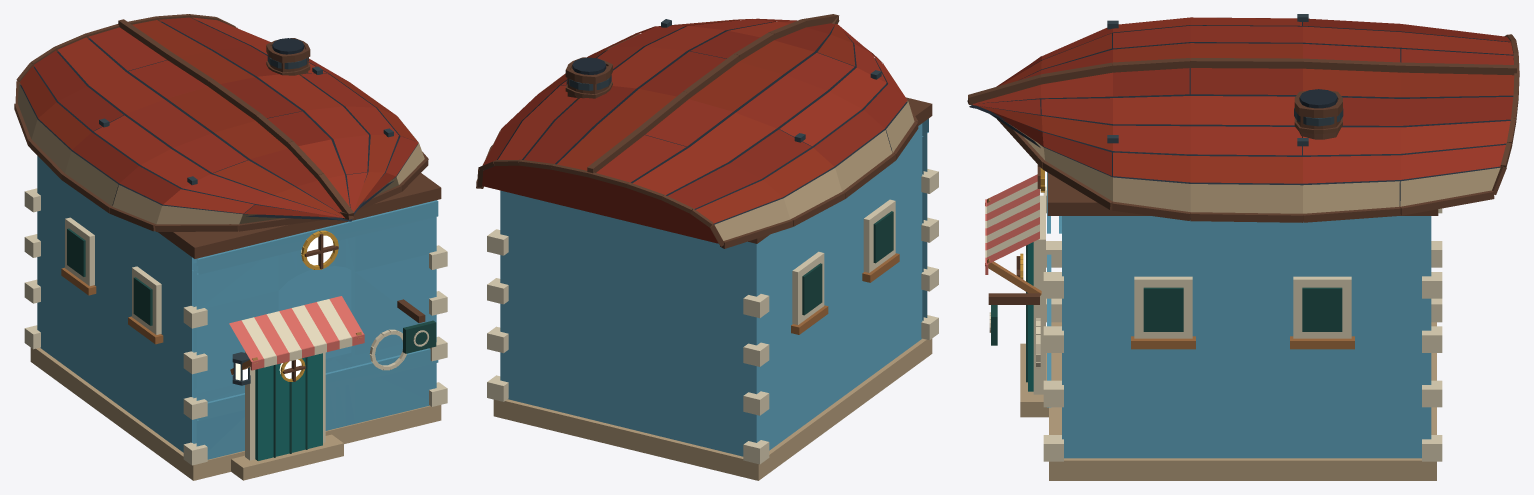
Rendered from net-loft-medium-sky.glb.
3 renders of one model, left to right at view 1: azimuth 30°, elevation 25°; view 2: azimuth 150°, elevation 25°; view 3: azimuth 270°, elevation 25°, orthographic. The views are drawn at different scales.
Parts seen in each view (by area): view 1: net-loft-medium-sky; view 2: net-loft-medium-sky; view 3: net-loft-medium-sky.
Part boxes in pixels (<box>): net-loft-medium-sky: <box>14,14,447,480</box>; net-loft-medium-sky: <box>476,14,938,480</box>; net-loft-medium-sky: <box>967,14,1519,480</box>.
Size of the model in its own units: 4.42 by 4.28 by 5.94.
